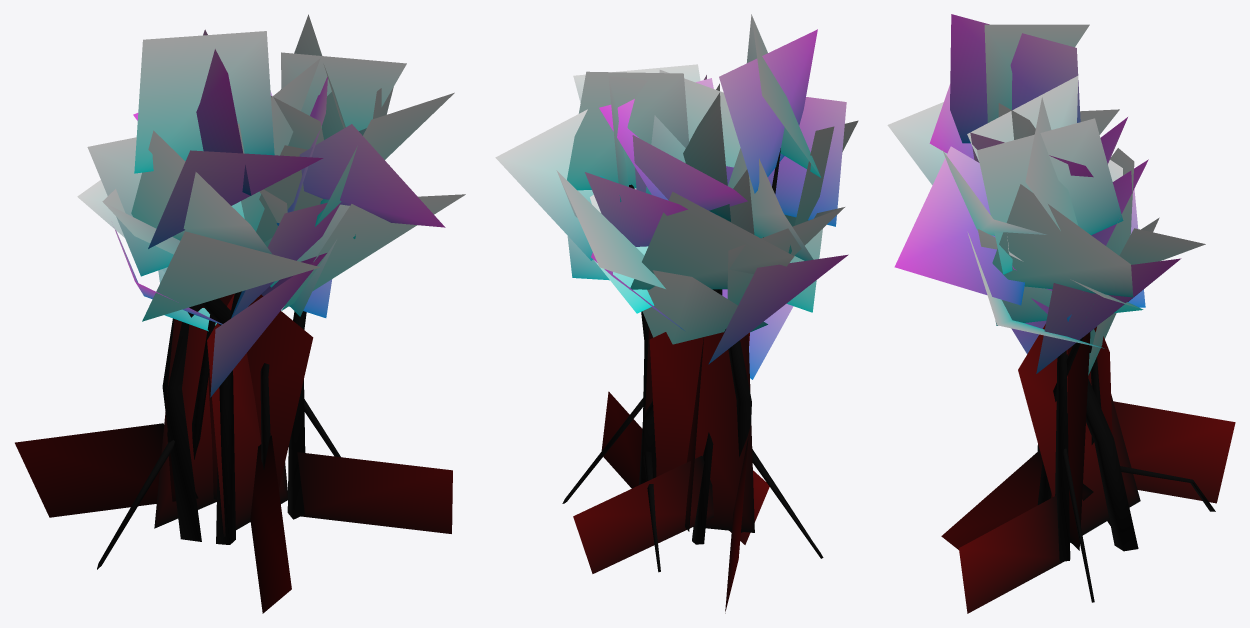
The model's file is swamp_mangrove_d_128.fbx.
The picture shows the model from 3 angles, left to right: view 1: azimuth 30°, elevation 25°; view 2: azimuth 150°, elevation 25°; view 3: azimuth 270°, elevation 25°; orthographic projection. The views are drawn at different scales.
Visible parts, largest first — view 1: leavesmd128, treemd128; view 2: leavesmd128, treemd128; view 3: leavesmd128, treemd128.
Boxes of the visible parts, x1=… form: leavesmd128: x1=15, y1=14, x2=465, y2=613; treemd128: x1=97, y1=291, x2=340, y2=569; leavesmd128: x1=495, y1=14, x2=858, y2=613; treemd128: x1=562, y1=148, x2=823, y2=572; leavesmd128: x1=887, y1=14, x2=1235, y2=613; treemd128: x1=1037, y1=337, x2=1215, y2=602.
Size of what is drawn, in the model's own units: 4.1 by 6.73 by 3.84.
